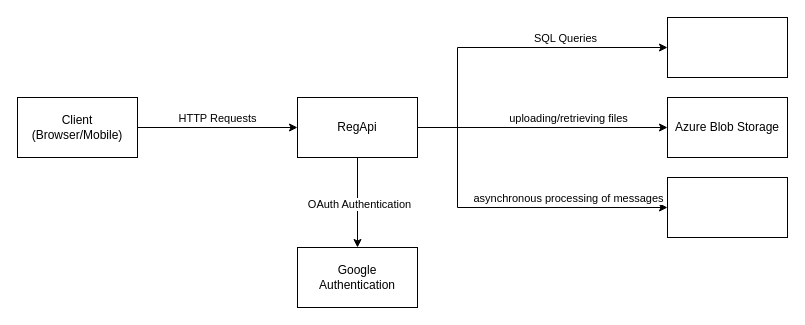
The diagram is 805 pixels wide and 325 high, and some of its shapes have lost their labels. The centre of each missing label's shape, as x and y in pixels:
Azure Service Bus: point (727, 207)
SQL Database: point (727, 47)
